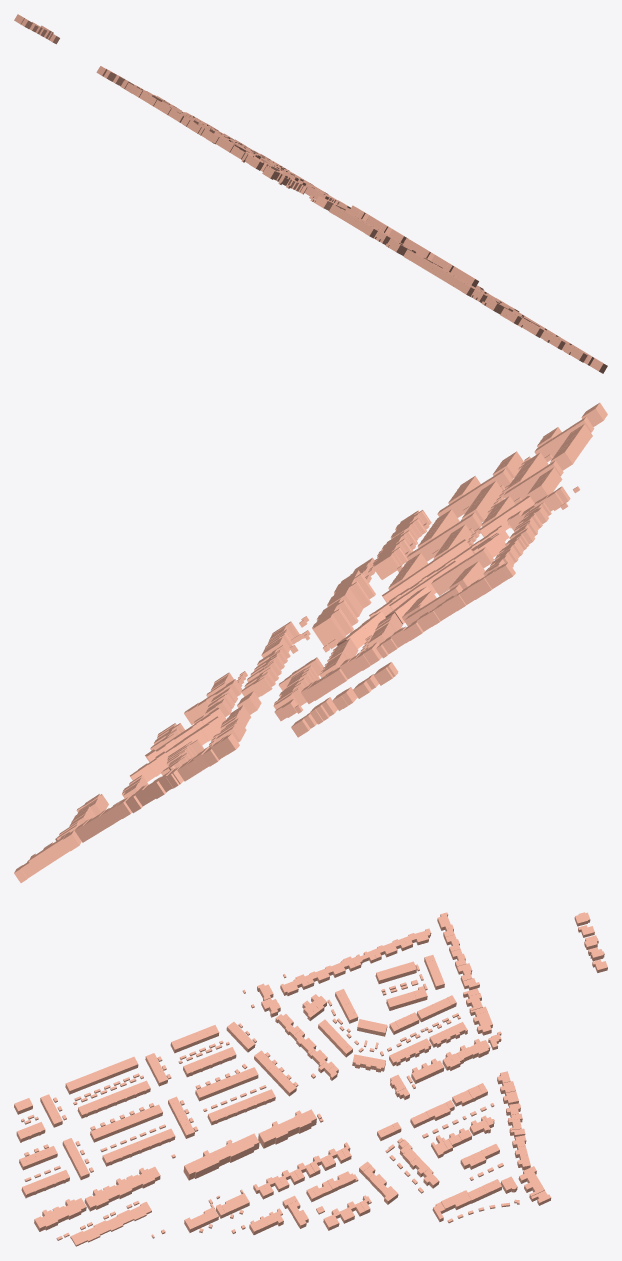
The picture shows the model from 3 angles, top to bottom: view 1: azimuth 30°, elevation 25°; view 2: azimuth 150°, elevation 25°; view 3: azimuth 270°, elevation 25°; orthographic projection. The views are drawn at different scales.
Bounding box in the file's own units: 320 × 227 × 597.
